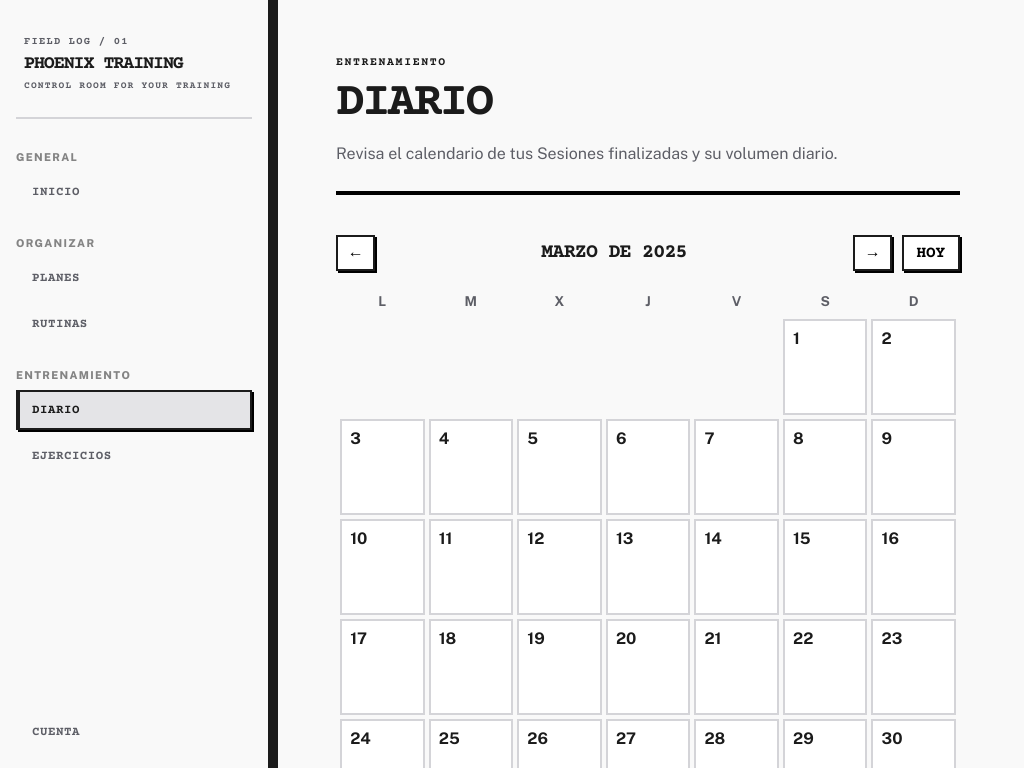
it: Diario: calendario mensual › abre el detalle de un día desde su celda
Click the link named "sin entrenamiento" at (796, 339), box [793,329,800,348]
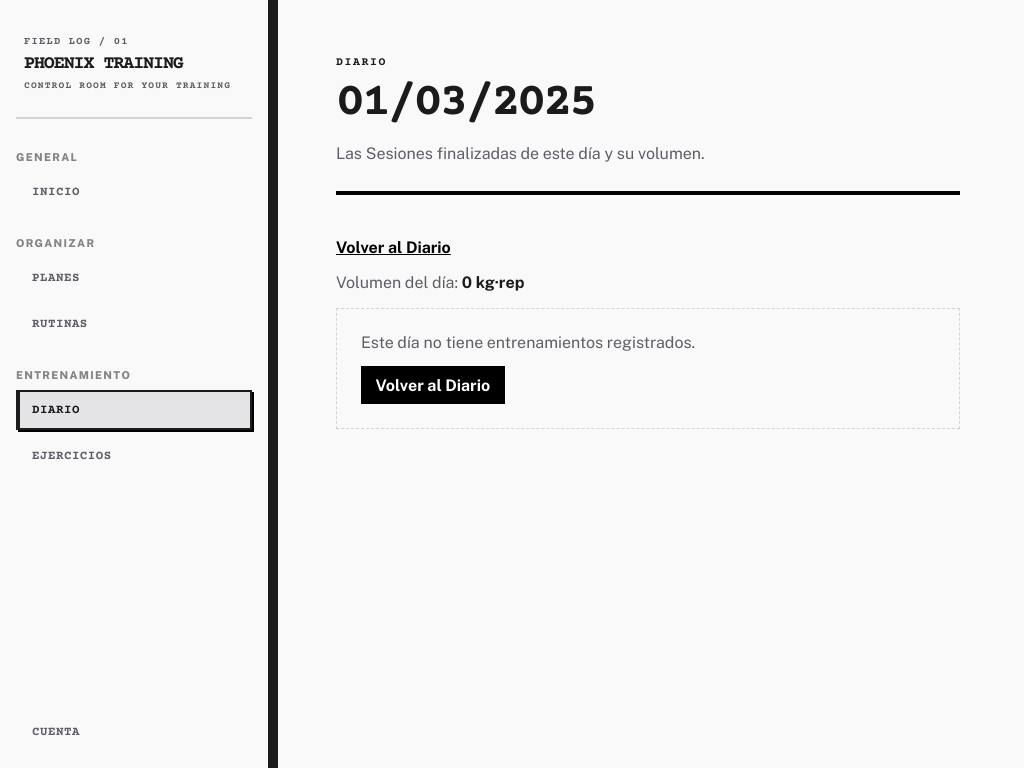
Expected: the heading "01/03/2025" is shown, [336,76,595,130]
